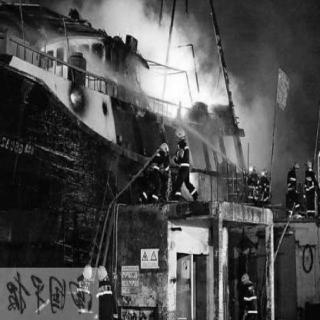Fire: (147, 50, 235, 121), (58, 83, 90, 113)
other: (268, 59, 292, 115), (232, 268, 255, 284), (155, 140, 172, 157), (172, 123, 190, 139)
